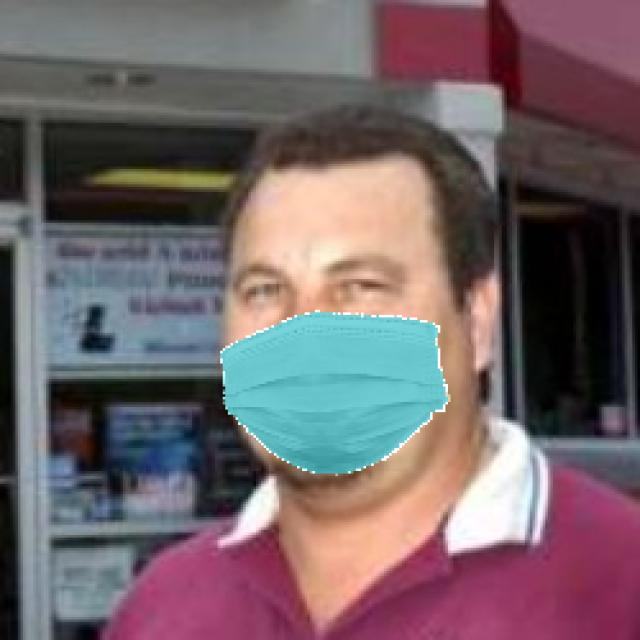mask: (215, 313, 467, 480)
